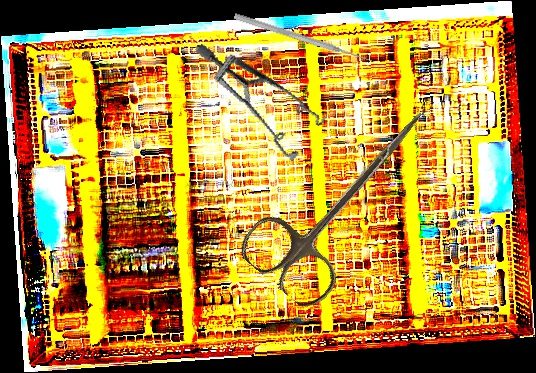Iris Scissors: (233, 77, 456, 316)
Pusher: (233, 11, 373, 66)
Speculum: (195, 15, 335, 179)
